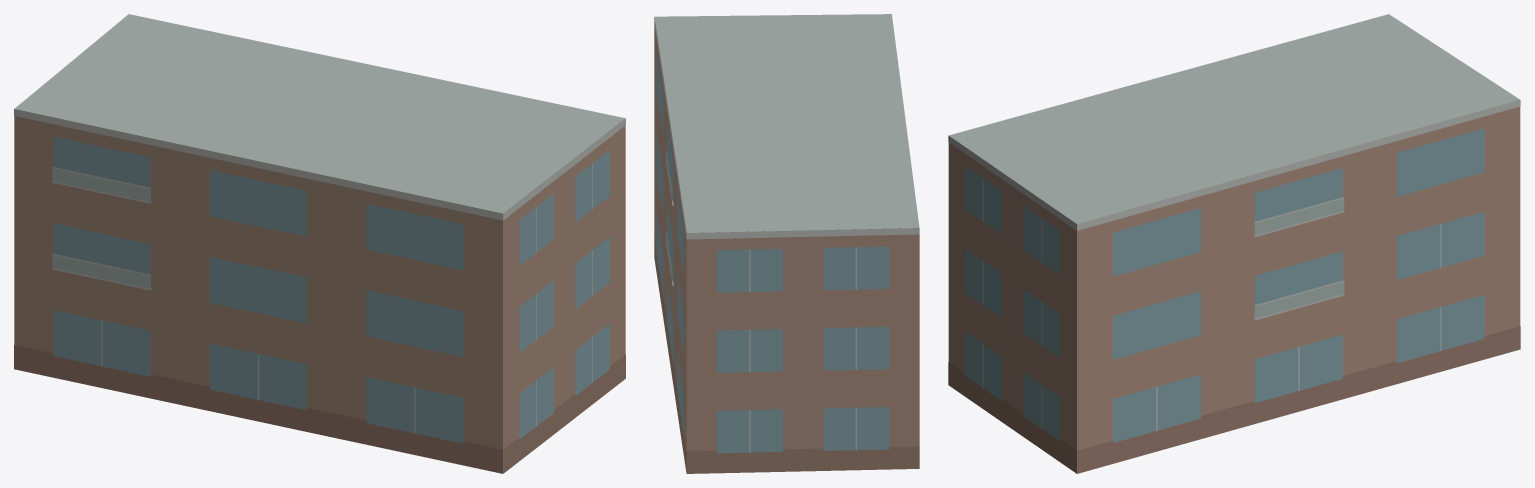
Rendered from survey-upis-32789929.glb.
The picture shows the model from 3 angles, left to right: view 1: azimuth 30°, elevation 25°; view 2: azimuth 150°, elevation 25°; view 3: azimuth 270°, elevation 25°; orthographic projection. The views are drawn at different scales.
Visible parts, largest first — view 1: survey-upis-32789929.tmp; view 2: survey-upis-32789929.tmp; view 3: survey-upis-32789929.tmp.
Boxes of the visible parts, bbox=[...] form: survey-upis-32789929.tmp: bbox=[14, 14, 625, 473]; survey-upis-32789929.tmp: bbox=[654, 14, 919, 473]; survey-upis-32789929.tmp: bbox=[948, 14, 1520, 473].
Bounding box in the file's own units: 16.53 × 9.15 × 19.
